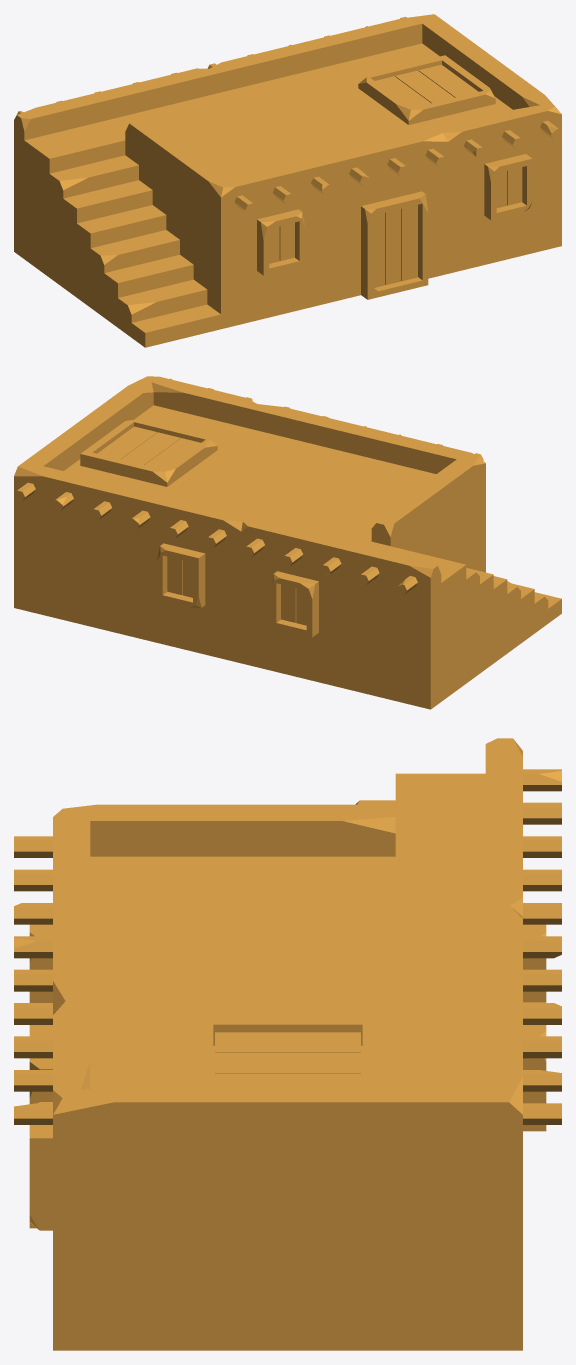
Rendered from house-egypt-medium.fbx.
3 views of the same model, one above another, from view 1: azimuth 30°, elevation 25°; view 2: azimuth 150°, elevation 25°; view 3: azimuth 270°, elevation 25° (orthographic). The views are drawn at different scales.
Parts seen in each view (by area): view 1: house-egypt-medium; view 2: house-egypt-medium; view 3: house-egypt-medium.
Boxes of the visible parts, <box> form: house-egypt-medium: <box>14,14,561,347</box>; house-egypt-medium: <box>14,376,561,709</box>; house-egypt-medium: <box>14,738,561,1350</box>.
Size of the model in its own units: 11 by 3.5 by 7.
